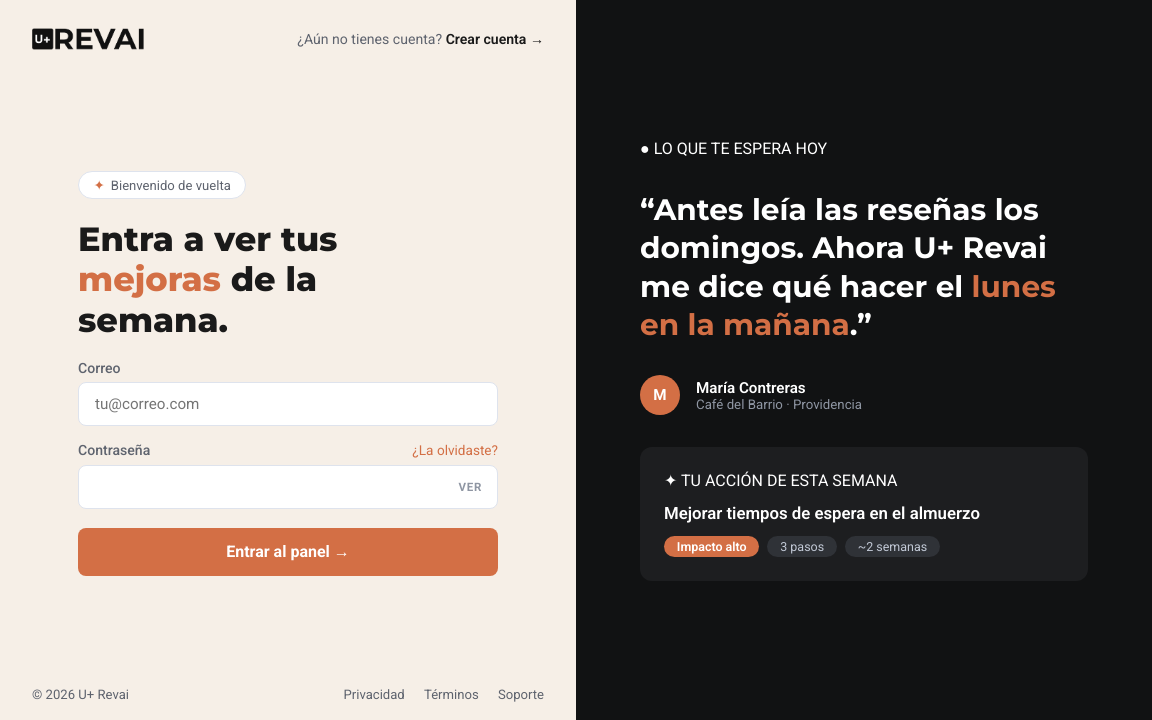
Scenario: LoginForm › toggle contraseña
The image size is (1152, 720).
Click the button "VER" at (470, 487), box [458,480,482,494]
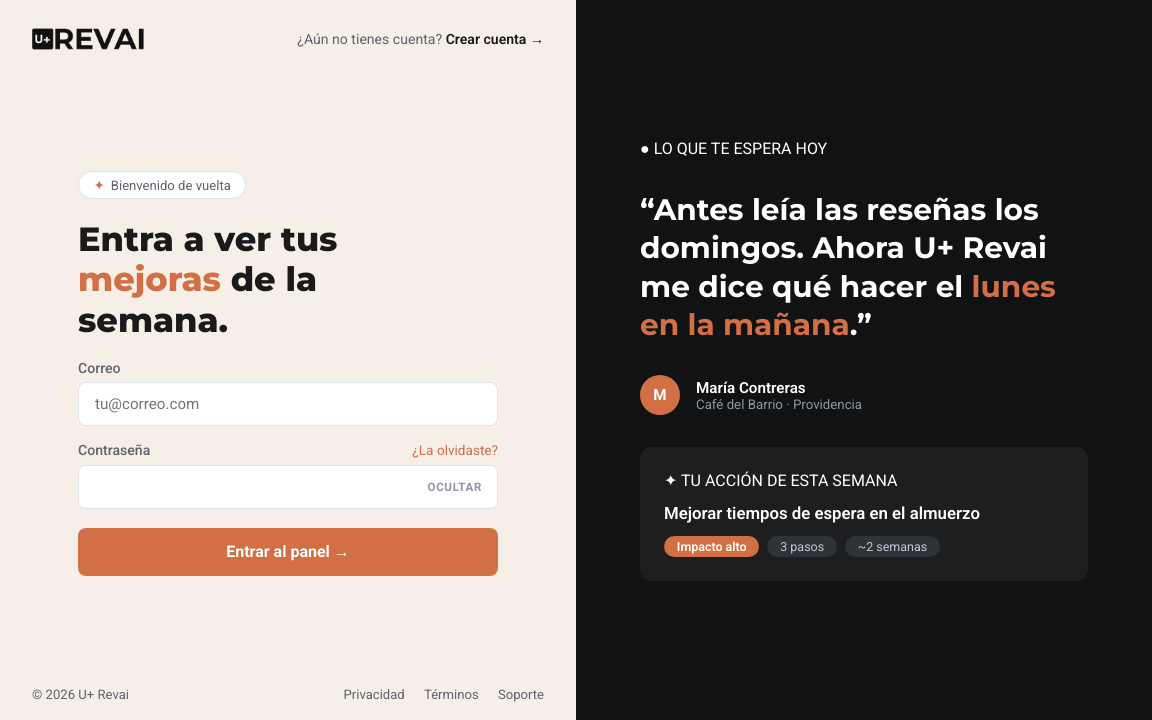
Check: the button "OCULTAR" is shown, box [428,480,482,494]
